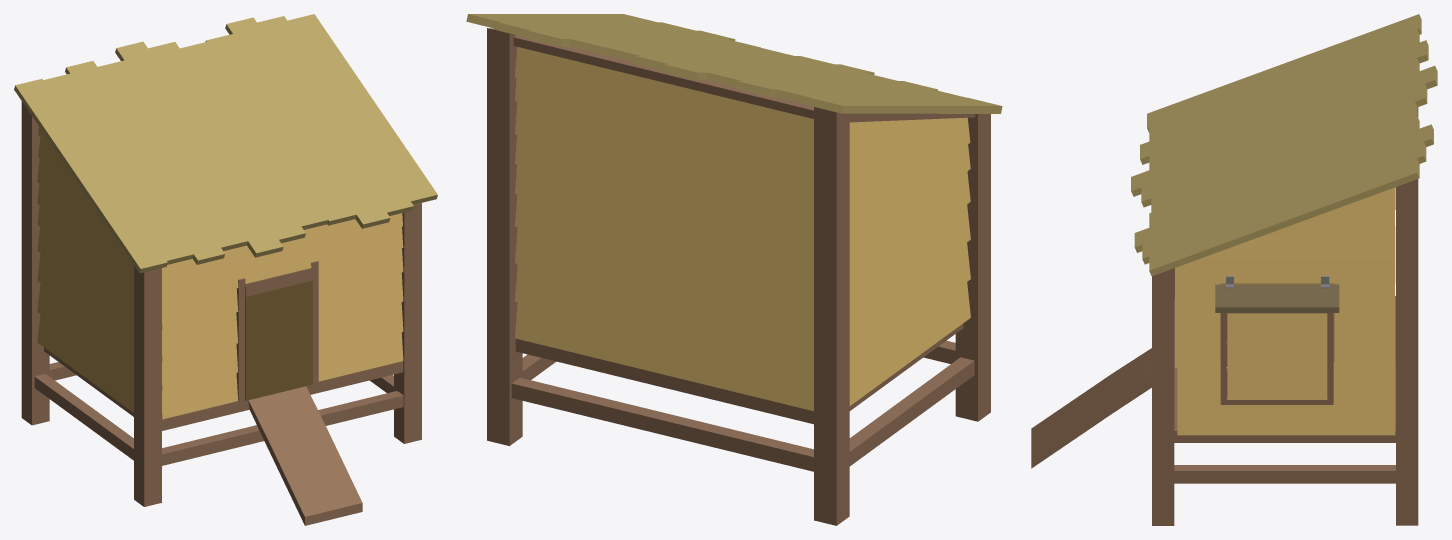
File: Chicken_Coop_05.fbx
3 renders of one model, left to right at view 1: azimuth 30°, elevation 25°; view 2: azimuth 150°, elevation 25°; view 3: azimuth 270°, elevation 25°, orthographic. The views are drawn at different scales.
Parts seen in each view (by area): view 1: Chicken_coop5_Combined; view 2: Chicken_coop5_Combined; view 3: Chicken_coop5_Combined.
Part boxes in pixels (bbox=[...]): Chicken_coop5_Combined: bbox=[14, 14, 437, 525]; Chicken_coop5_Combined: bbox=[466, 14, 1002, 525]; Chicken_coop5_Combined: bbox=[1031, 14, 1437, 525].
Bounding box in the file's own units: 604 × 621 × 615.
